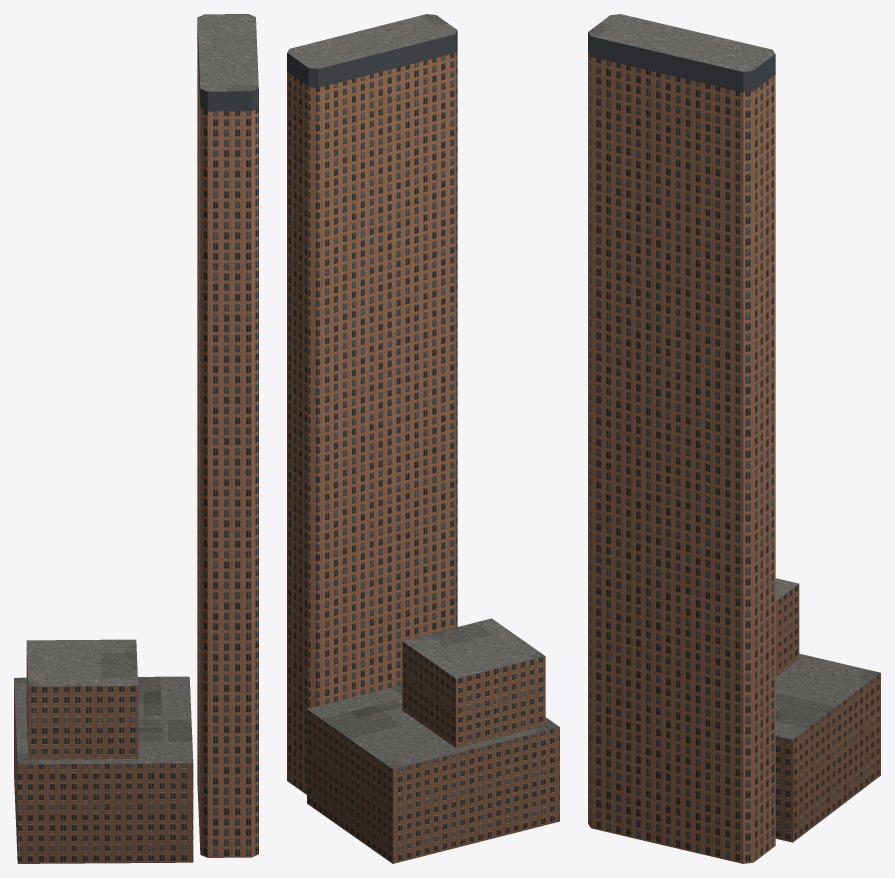
File: carnegie.glb
3 renders of one model, left to right at view 1: azimuth 30°, elevation 25°; view 2: azimuth 150°, elevation 25°; view 3: azimuth 270°, elevation 25°, orthographic. The views are drawn at different scales.
Parts seen in each view (by area): view 1: carnegie; view 2: carnegie; view 3: carnegie.
Boxes of the visible parts, <box> form: carnegie: <box>14,14,258,863</box>; carnegie: <box>287,14,559,863</box>; carnegie: <box>588,14,880,863</box>.
Bounding box in the file's own units: 82.45 × 231 × 77.38.
Materials: 8 (7 with a texture image).
